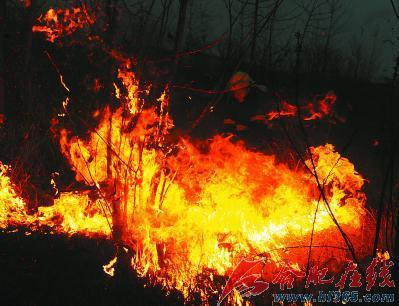fire: (9, 65, 378, 300), (28, 7, 88, 43)
